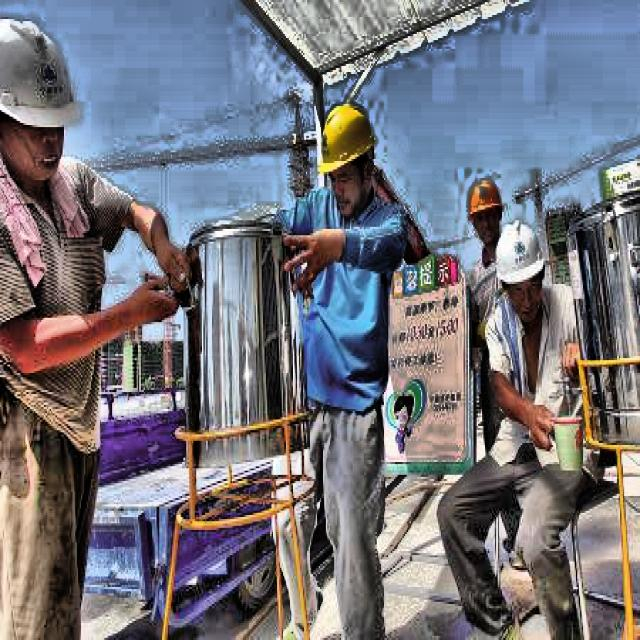helmet: (0, 6, 85, 209), (317, 91, 381, 218), (496, 202, 549, 328), (465, 170, 508, 254)
